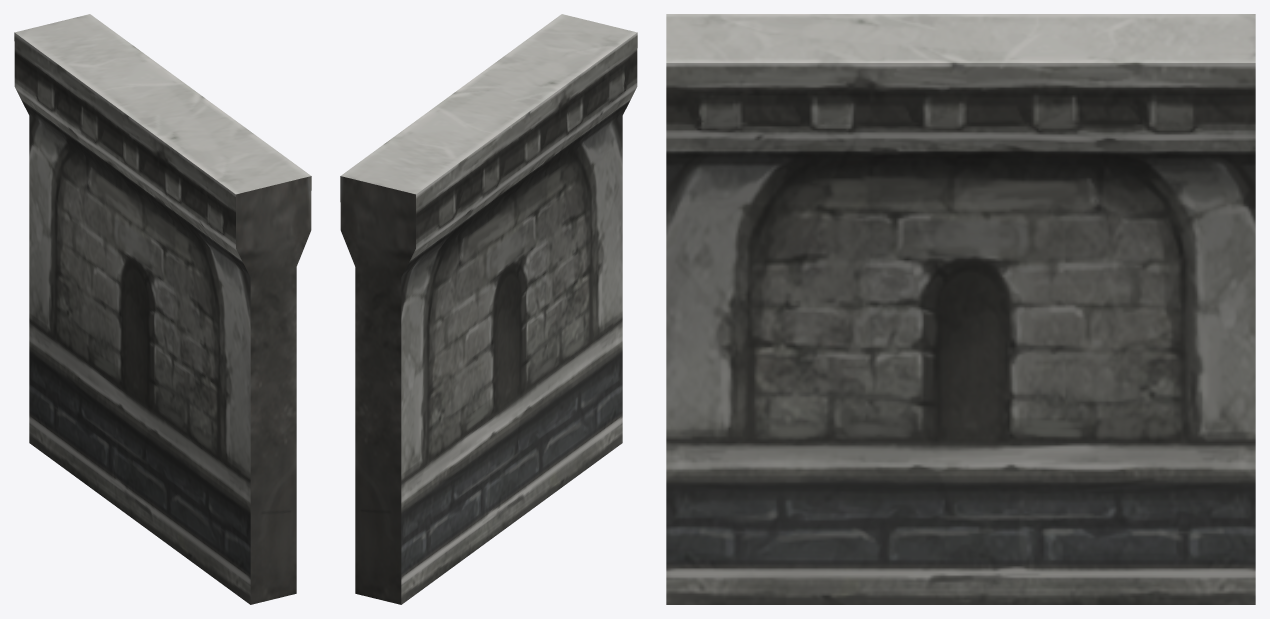
Rendered from unity_dungeon_wall03.FBX.
3 views of the same model, side by side, from view 1: azimuth 30°, elevation 25°; view 2: azimuth 150°, elevation 25°; view 3: azimuth 270°, elevation 25° (orthographic). The views are drawn at different scales.
Parts seen in each view (by area): view 1: unity_dungeon_wall03; view 2: unity_dungeon_wall03; view 3: unity_dungeon_wall03.
Part boxes in pixels (<box>): unity_dungeon_wall03: <box>14,14,311,604</box>; unity_dungeon_wall03: <box>340,14,637,604</box>; unity_dungeon_wall03: <box>666,14,1255,604</box>.
Size of the model in its own units: 0.9866 by 5.16 by 5.
